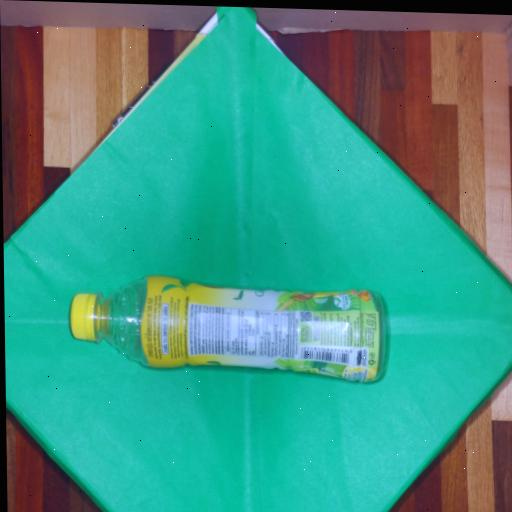bottle: (68, 268, 394, 394)
